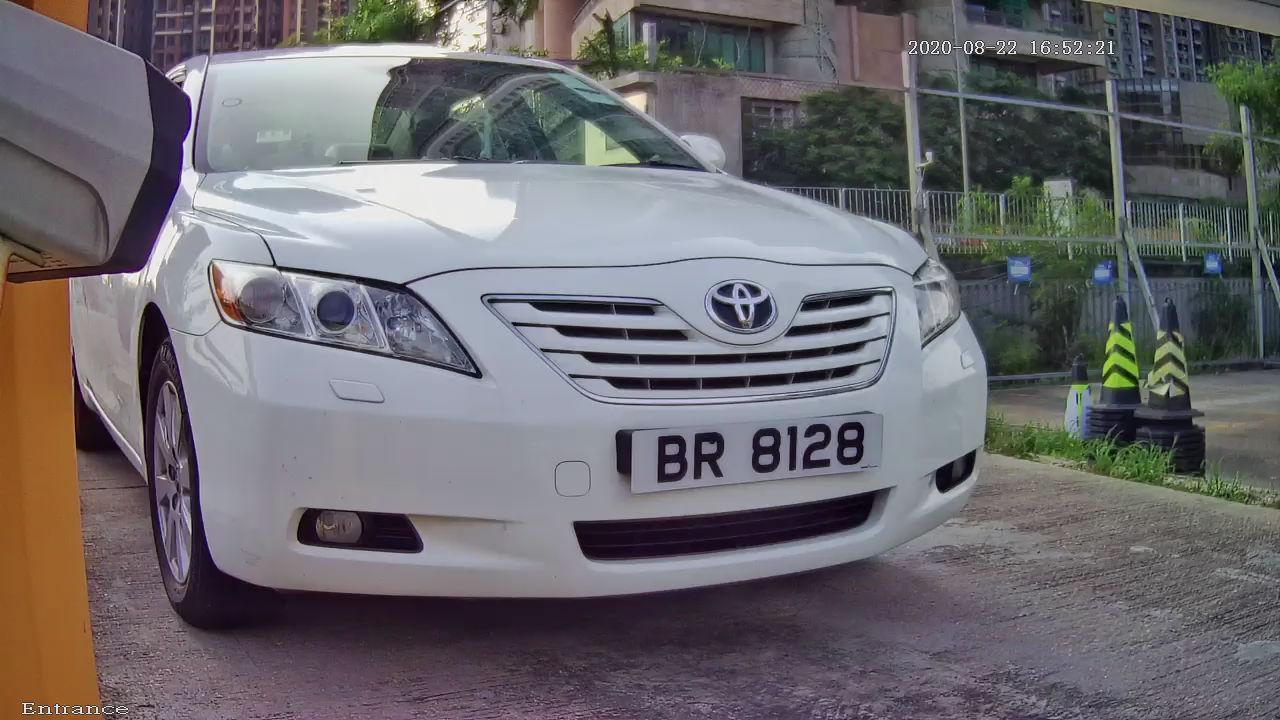Car: (35, 17, 1103, 659)
License Plate: (612, 393, 934, 517)
